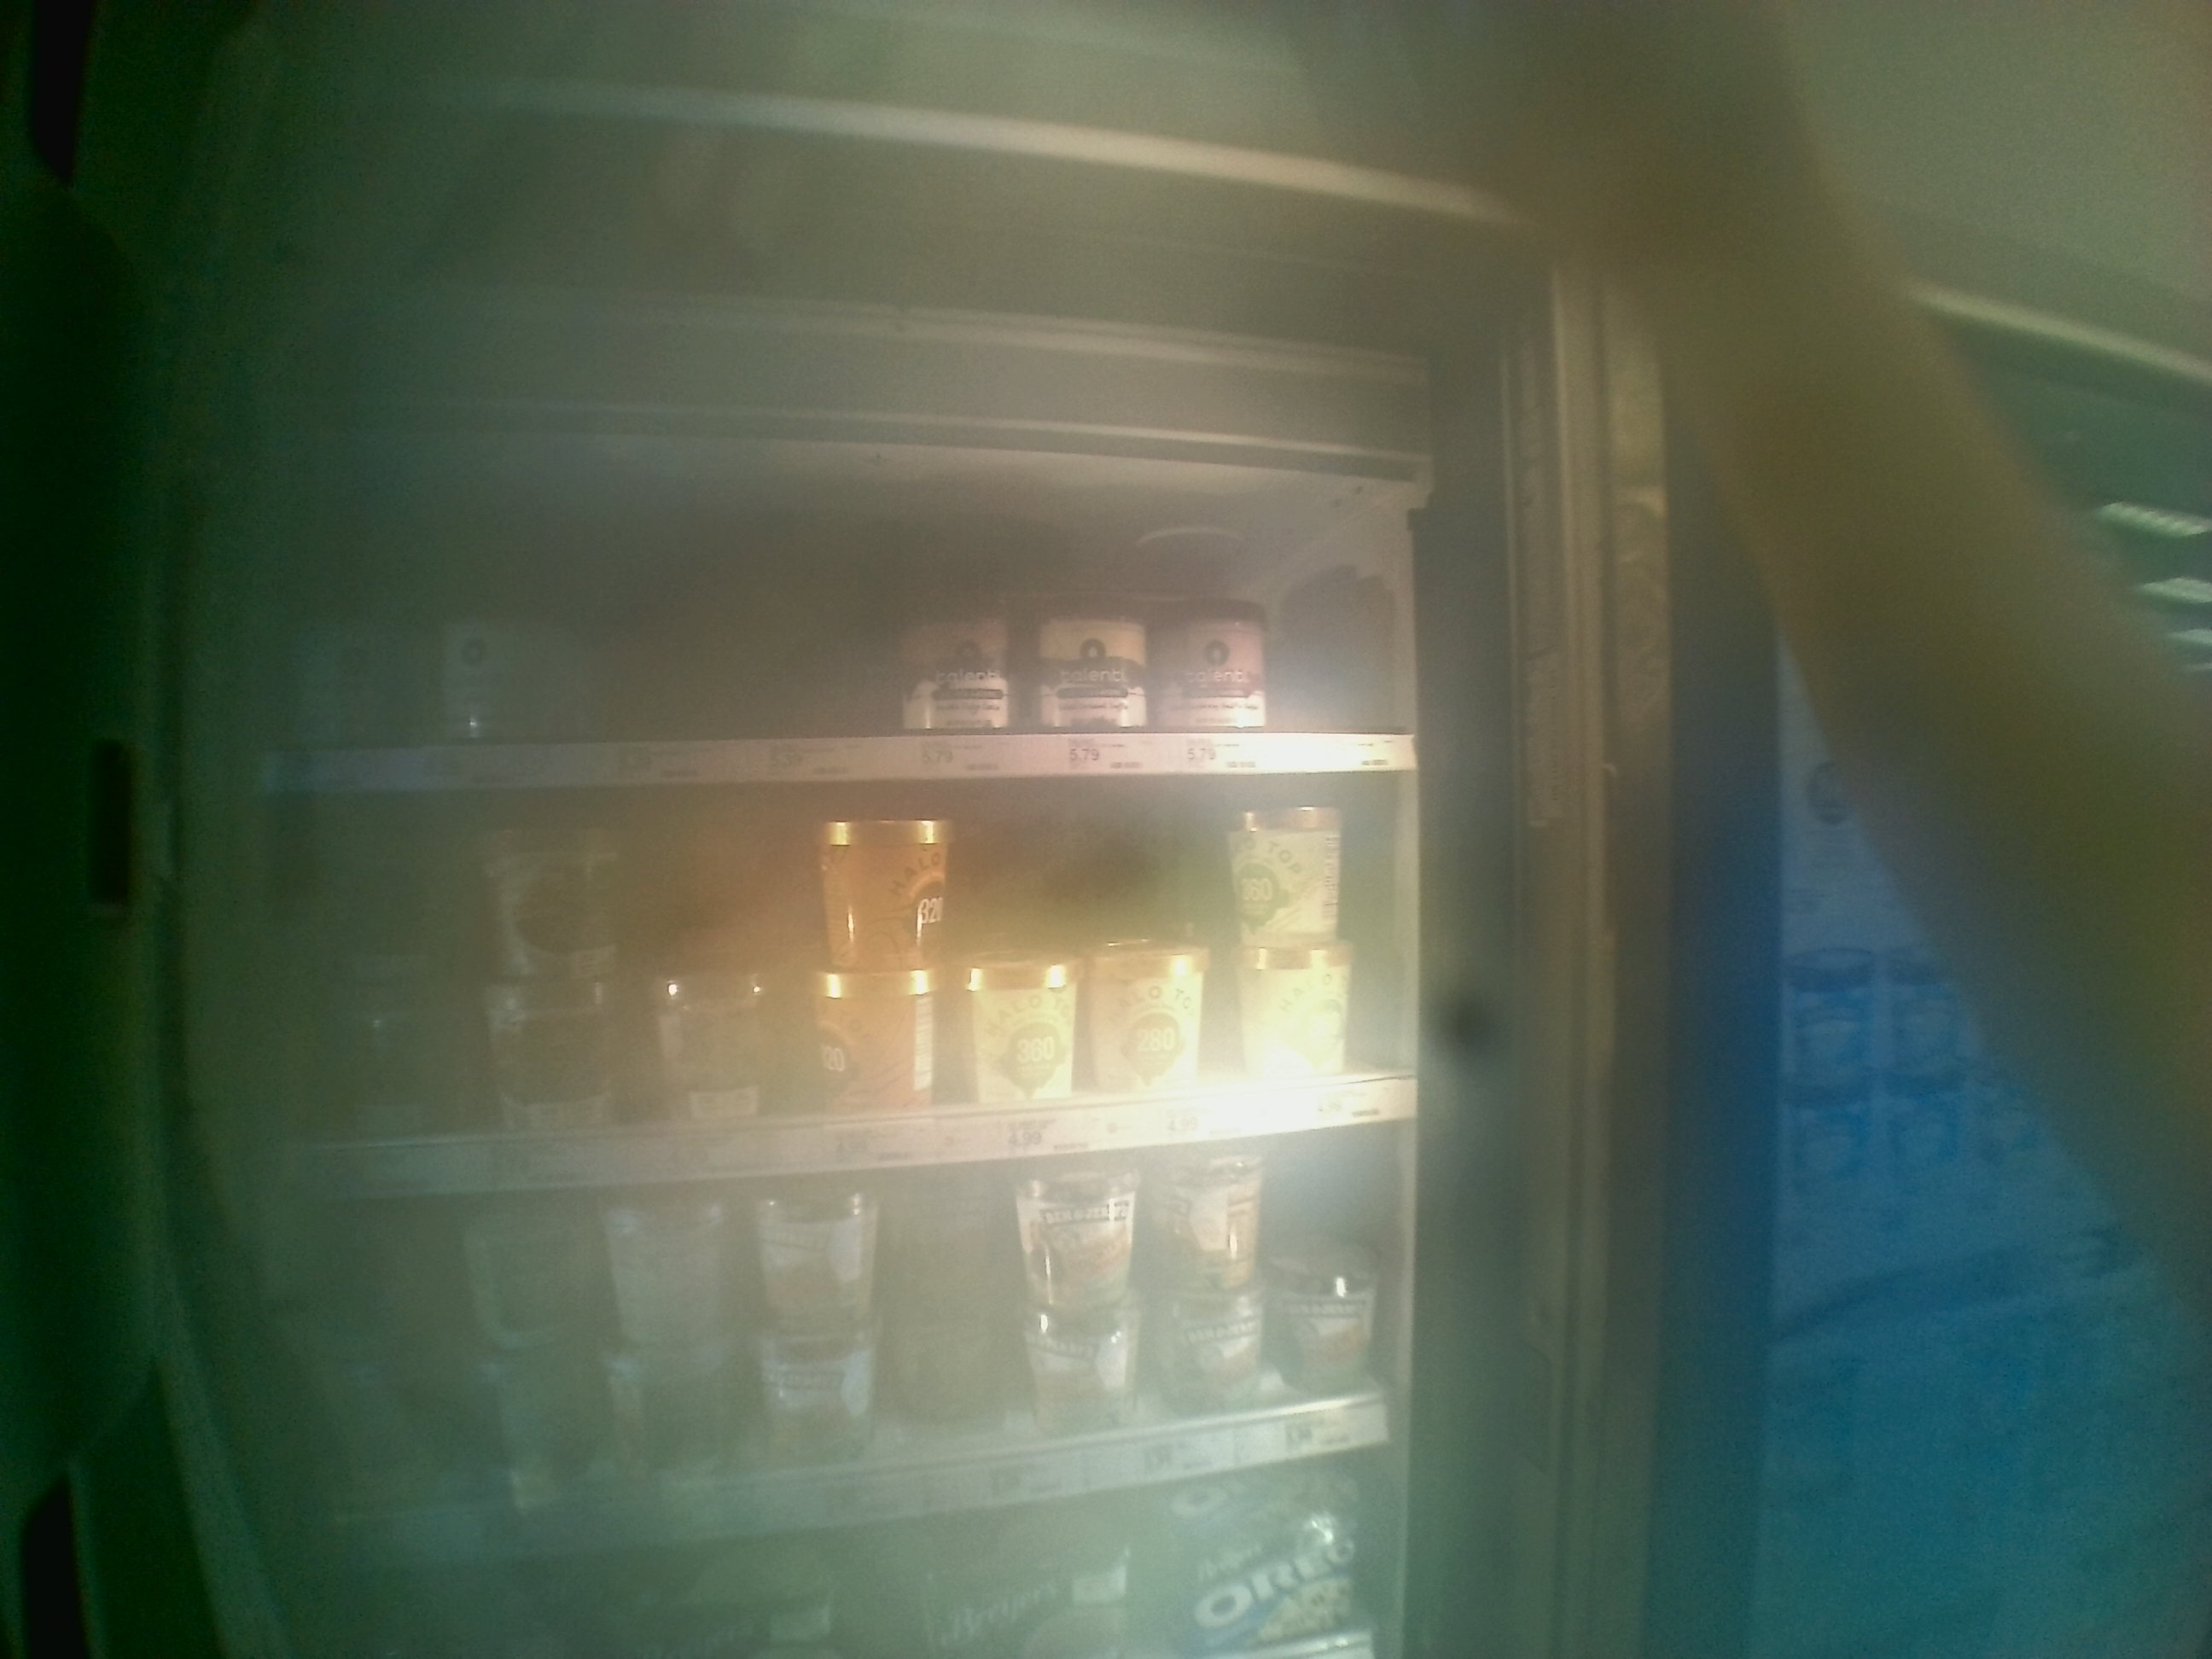shelf: (228, 784, 1423, 1211), (233, 425, 1425, 779)
